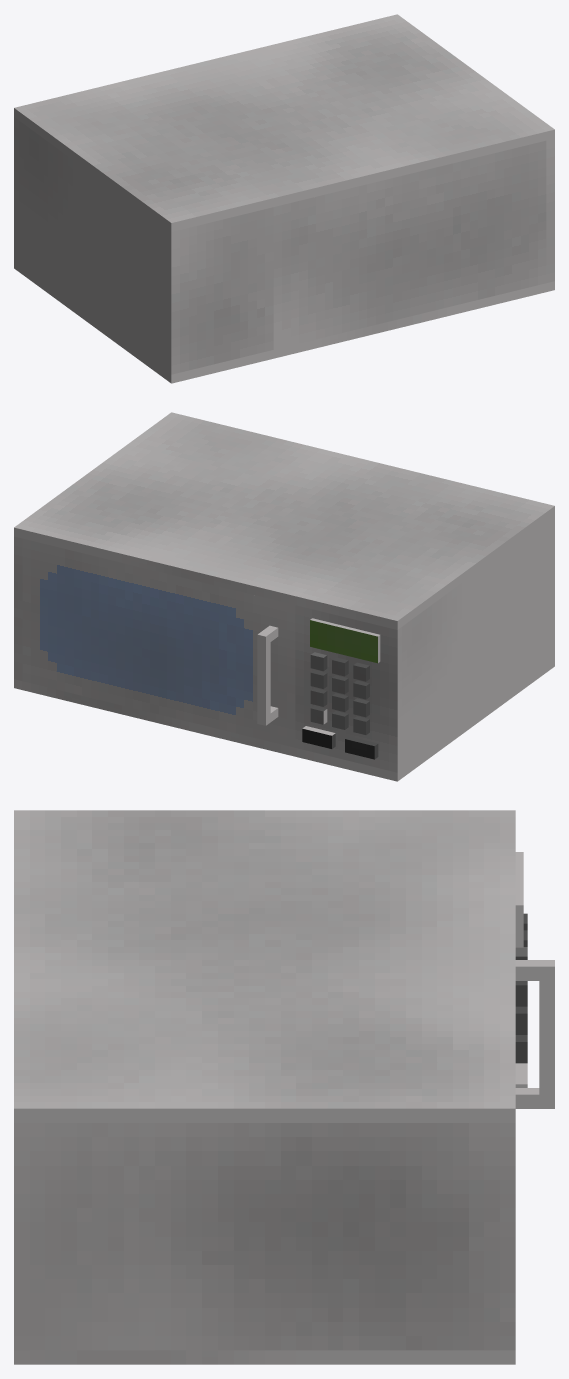
Rendered from Microwave.gltf.
3 views of the same model, one above another, from view 1: azimuth 30°, elevation 25°; view 2: azimuth 150°, elevation 25°; view 3: azimuth 270°, elevation 25° (orthographic). The views are drawn at different scales.
Parts seen in each view (by area): view 1: cuboid (×5); view 2: cuboid (×9); view 3: cuboid (×5).
Part boxes in pixels (x1,y1,x2,y2): cuboid (×5): (14,14,554,383); cuboid (×9): (14,412,554,781); cuboid (×5): (14,810,554,1364).
Size of the model in its own units: 1.41 by 0.5625 by 1.08.
1 material, 1 textured.
